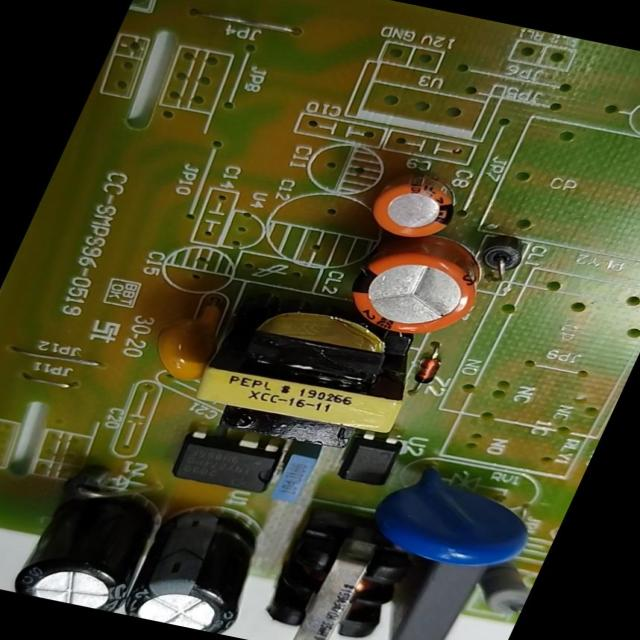Cap1: (321, 219, 508, 349)
Cap2: (348, 156, 482, 248)
Cap3: (110, 489, 291, 637)
Cap4: (2, 462, 188, 615)
MOSFET: (155, 416, 297, 501)
Mov: (339, 440, 564, 584)
Resistor: (457, 550, 543, 626)
Transformer: (176, 266, 457, 442), (248, 496, 440, 640)
